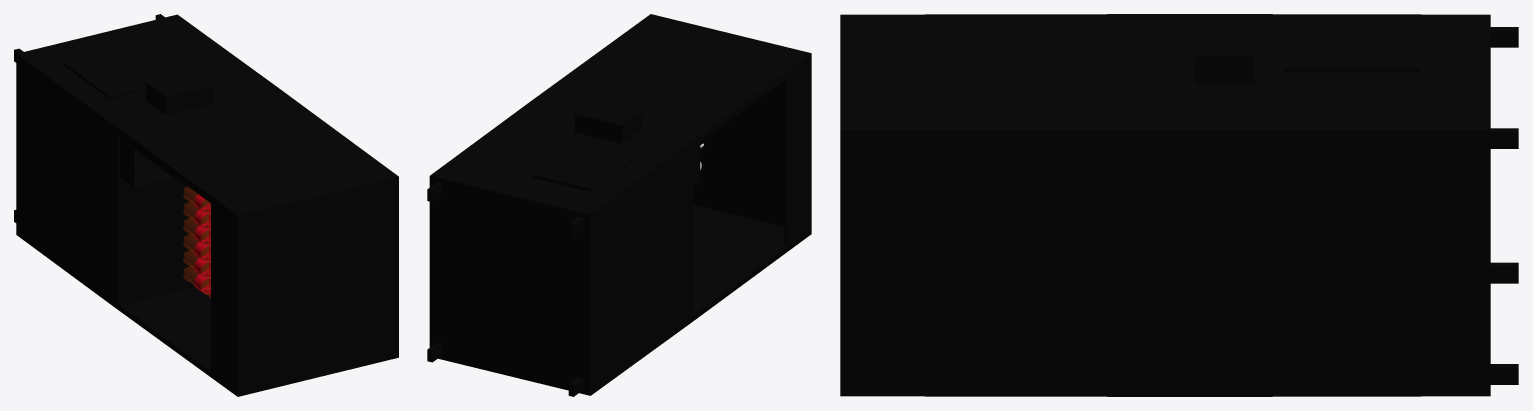
Rendered from claw_machine_50.glb.
3 renders of one model, left to right at view 1: azimuth 30°, elevation 25°; view 2: azimuth 150°, elevation 25°; view 3: azimuth 270°, elevation 25°, orthographic. The views are drawn at different scales.
Visible parts, largest first — view 1: Maquina; view 2: Maquina; view 3: Maquina.
Boxes of the visible parts, box(x1,y1,x2,y2) form: Maquina: box(14, 14, 398, 396); Maquina: box(427, 14, 811, 396); Maquina: box(840, 14, 1518, 396).
Size of the model in its own units: 0.2324 by 0.2739 by 0.5729.
Materials: 5 (1 with a texture image).
